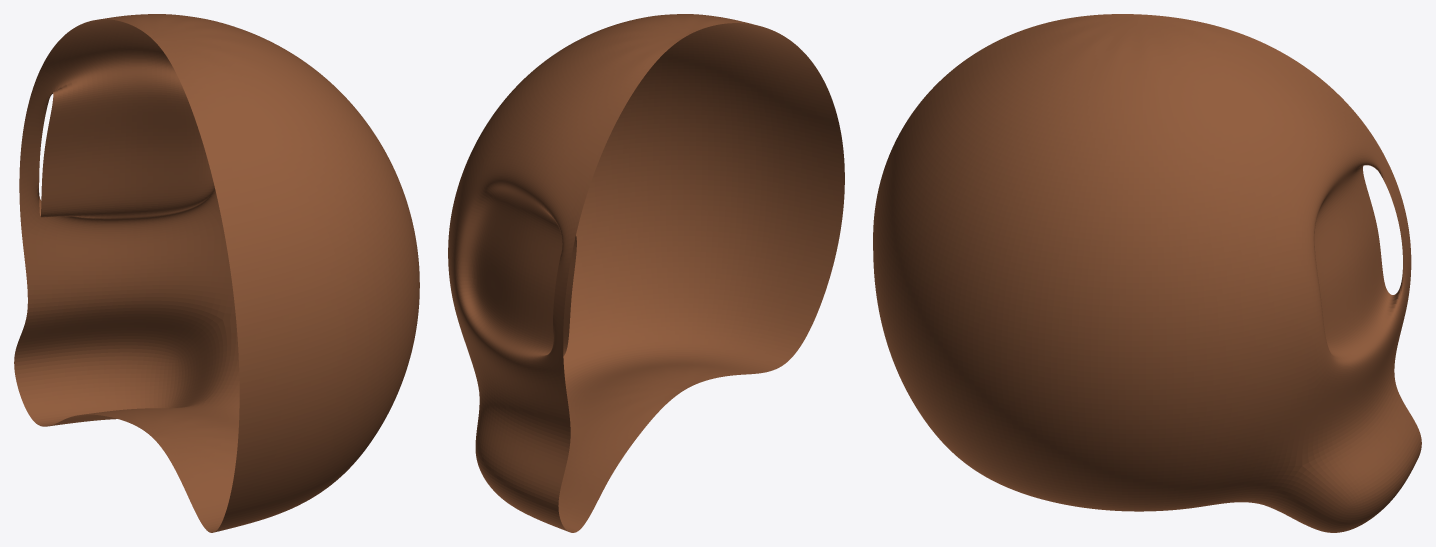
The model's file is CalaveritaChocolate_2.fbx.
3 renders of one model, left to right at view 1: azimuth 30°, elevation 25°; view 2: azimuth 150°, elevation 25°; view 3: azimuth 270°, elevation 25°, orthographic. The views are drawn at different scales.
Parts seen in each view (by area): view 1: Calaverita.001; view 2: Calaverita.001; view 3: Calaverita.001.
Boxes of the visible parts, x1=… form: Calaverita.001: x1=14, y1=14, x2=419, y2=532; Calaverita.001: x1=448, y1=14, x2=844, y2=532; Calaverita.001: x1=873, y1=14, x2=1421, y2=532.
Size of the model in its own units: 116 by 188 by 198.
